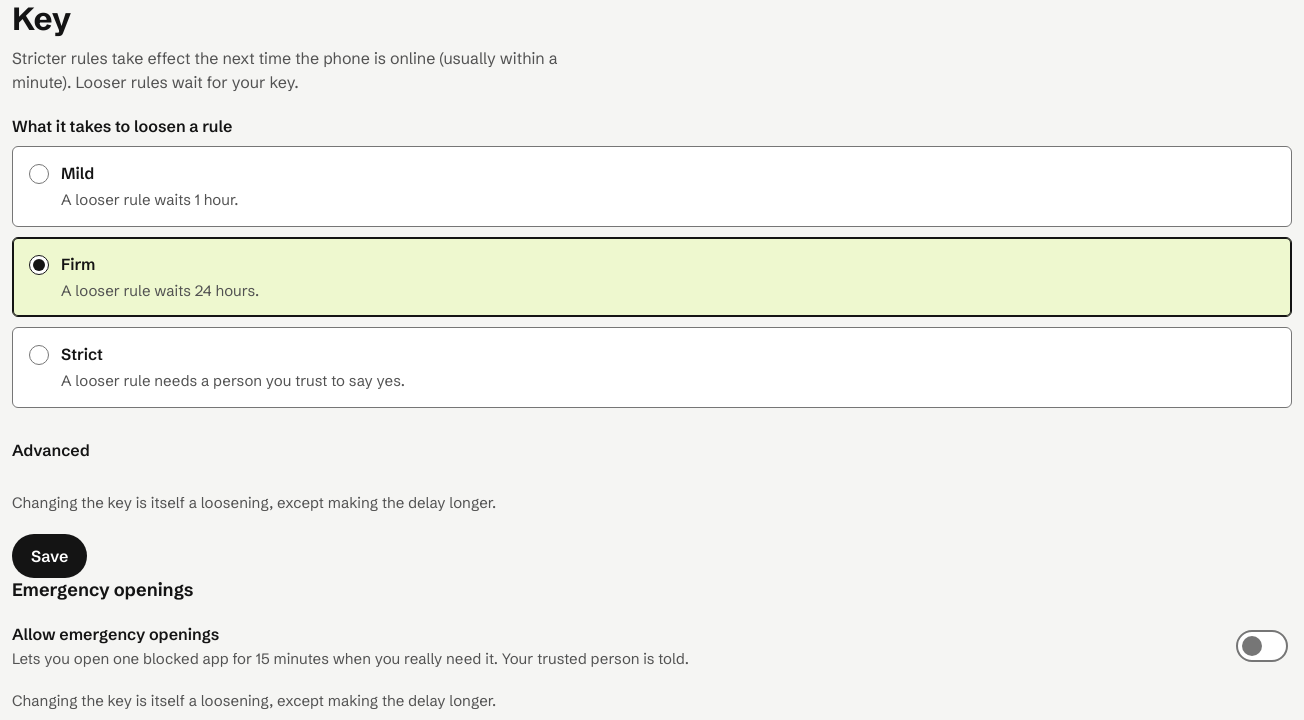
keeps showing the saved values when the change waits for the key
Click the switch. click: [1262, 646]
box: x1=1232 y1=624 x2=1292 y2=668
(page scrolled)
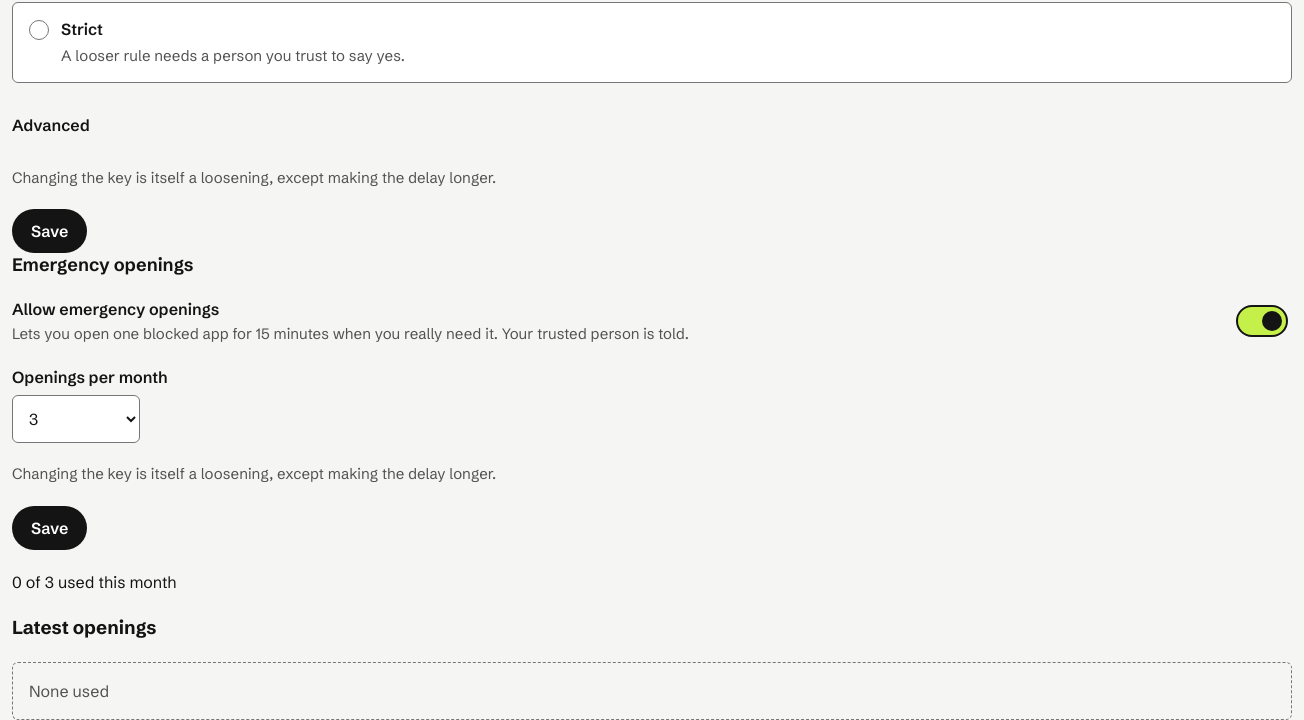
expect the switch is checked: met, box x1=1232 y1=299 x2=1292 y2=343
Submit the form that starts with "Allow emergency openings", box x1=12 y1=297 x2=1292 y2=550
(page scrolled)
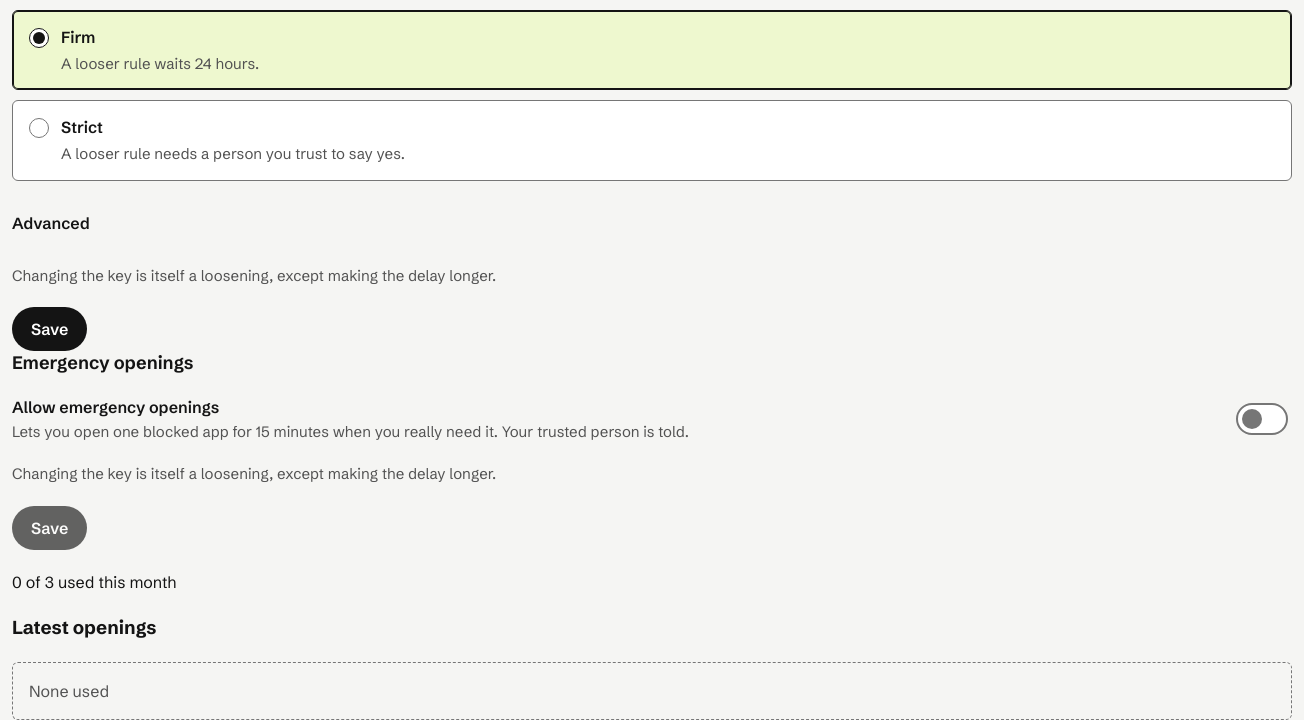
expect the dropdown is gone: met
